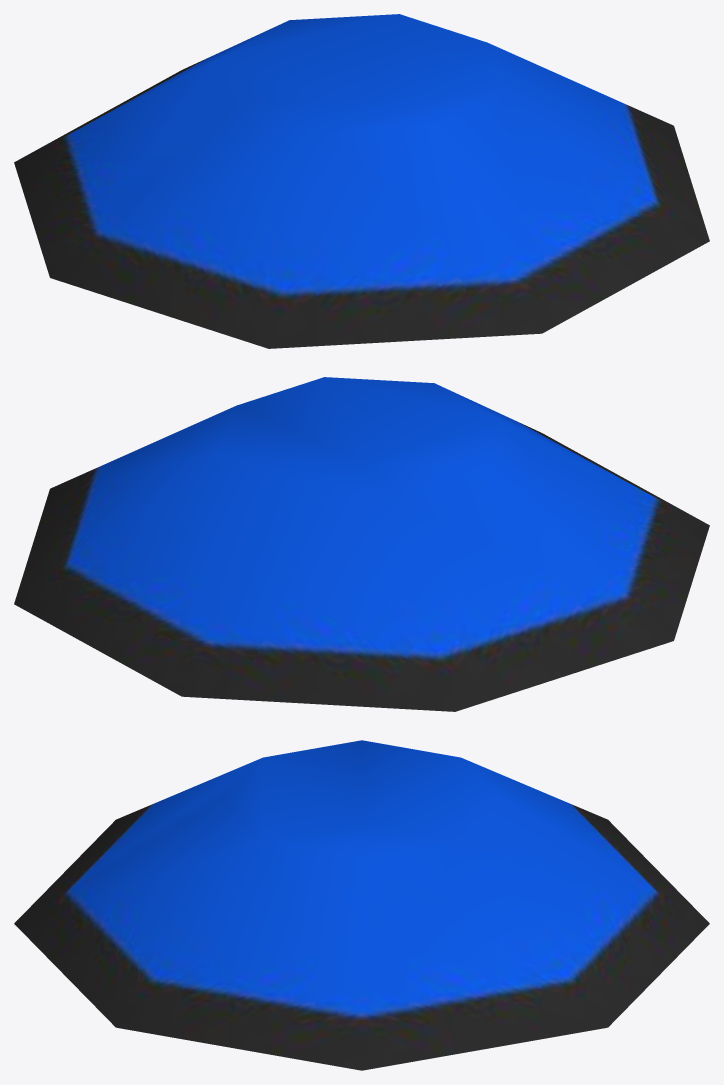
Rendered from defaultconeblue.glb.
The picture shows the model from 3 angles, top to bottom: view 1: azimuth 30°, elevation 25°; view 2: azimuth 150°, elevation 25°; view 3: azimuth 270°, elevation 25°; orthographic projection. The views are drawn at different scales.
Visible parts, largest first — view 1: DefaultConeBlue; view 2: DefaultConeBlue; view 3: DefaultConeBlue.
Part boxes in pixels (x1,y1,x2,y2): DefaultConeBlue: (14,14,709,348); DefaultConeBlue: (14,377,709,711); DefaultConeBlue: (14,740,709,1070).
Bounding box in the file's own units: 0.312 × 0.0614 × 0.312.
1 material, 1 textured.
